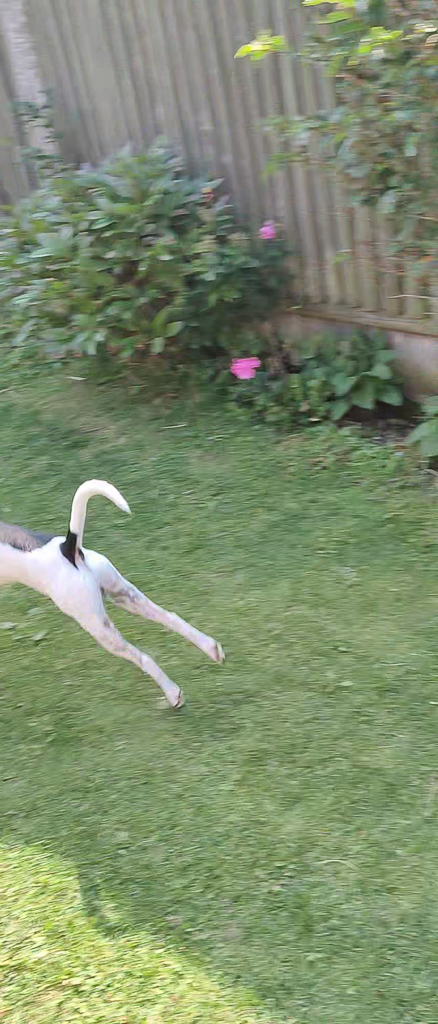Dog: (0, 472, 236, 721)
